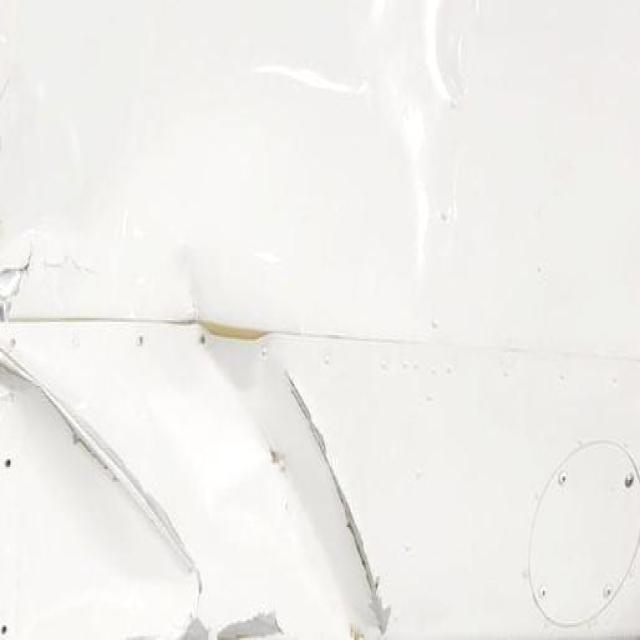Dent: (190, 309, 378, 640)
